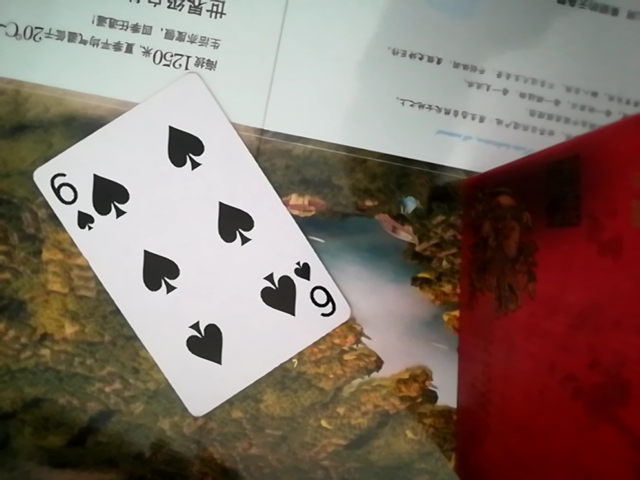ht 6: (36, 79, 341, 426)
